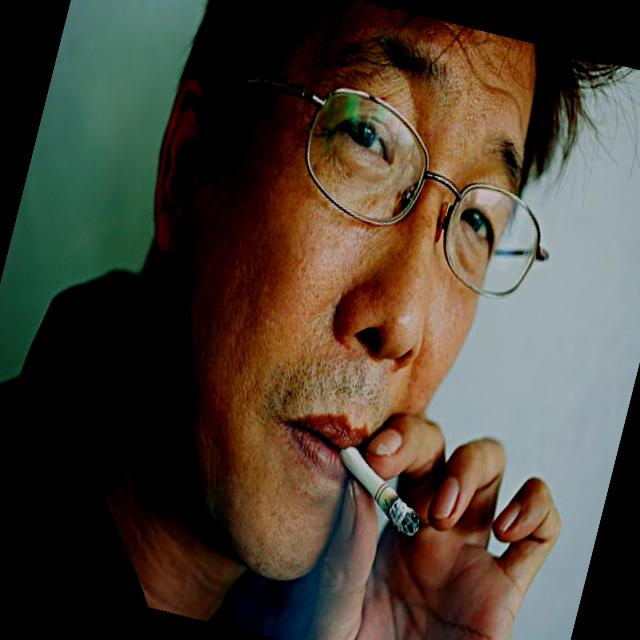smoke: (306, 426, 439, 544)
